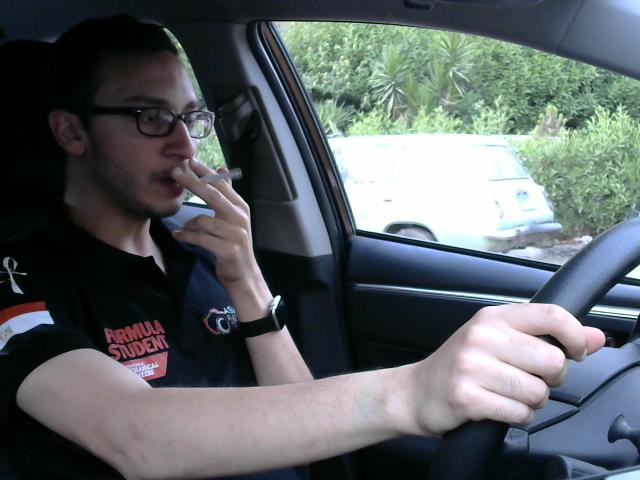Smoking: (171, 161, 251, 194)
